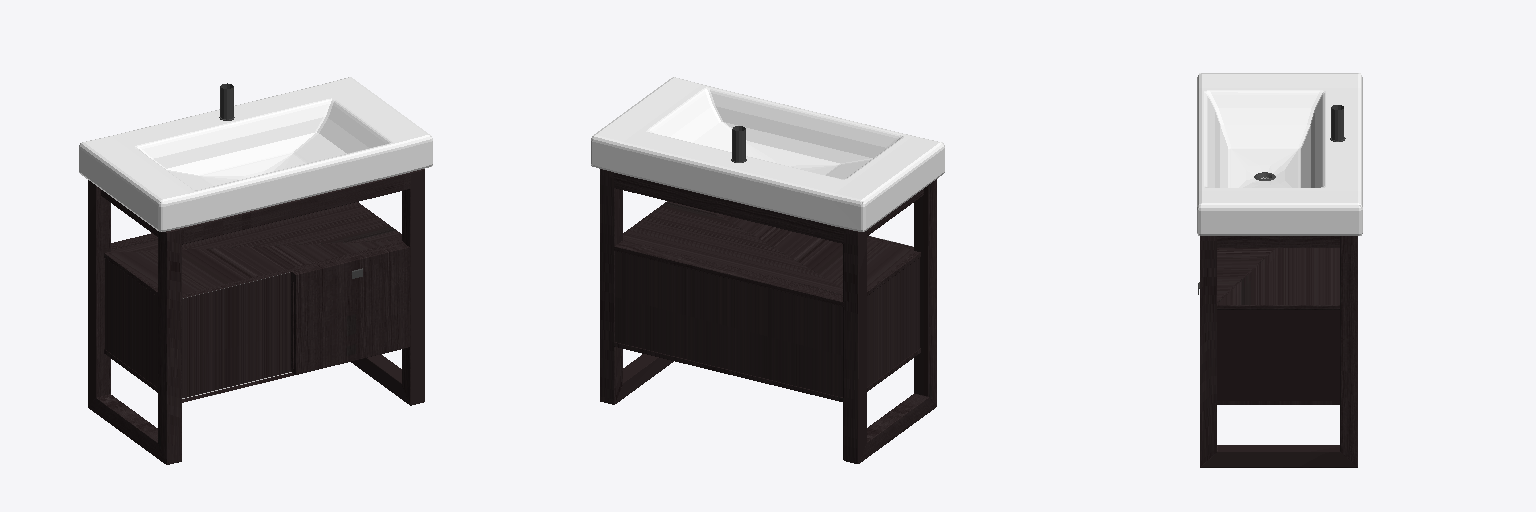
3 renders of one model, left to right at view 1: azimuth 30°, elevation 25°; view 2: azimuth 150°, elevation 25°; view 3: azimuth 270°, elevation 25°, orthographic.
Visible parts, largest first — view 1: Part4; view 2: Part4; view 3: Part4.
Boxes of the visible parts, <box> form: Part4: <box>79,77,432,464</box>; Part4: <box>591,77,944,463</box>; Part4: <box>1197,73,1362,467</box>.
Bounding box in the file's own units: 0.9001 × 0.9313 × 0.4706.
4 materials, 1 textured.